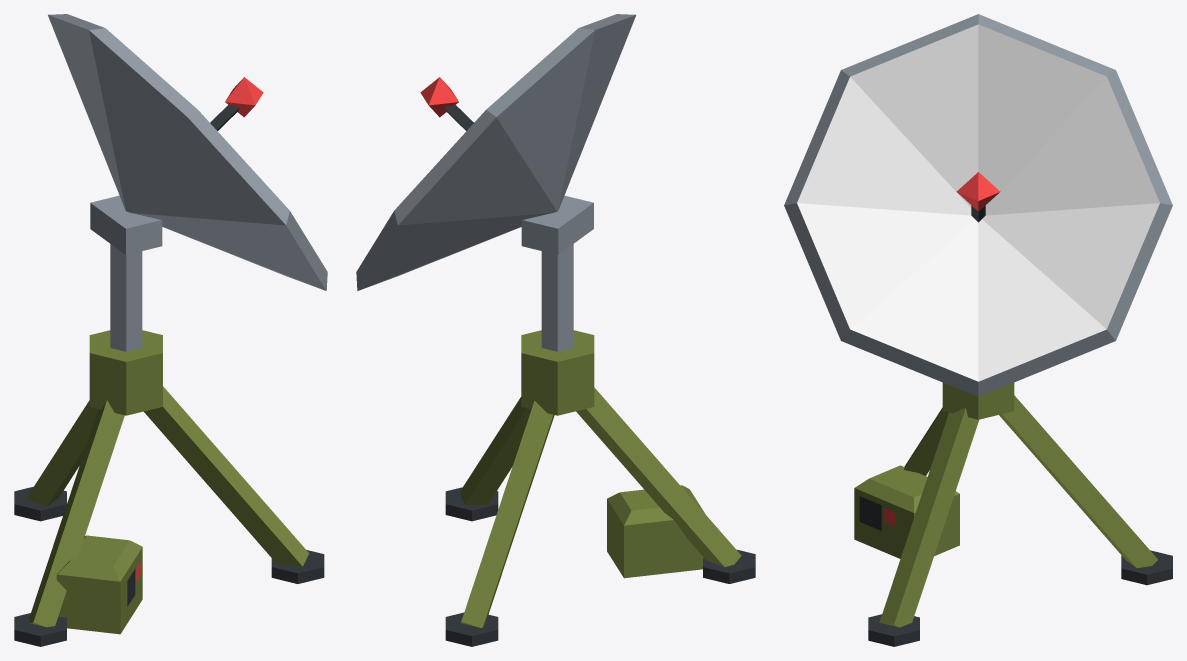
The model's file is radar_small.glb.
The picture shows the model from 3 angles, left to right: view 1: azimuth 30°, elevation 25°; view 2: azimuth 150°, elevation 25°; view 3: azimuth 270°, elevation 25°; orthographic projection.
Parts seen in each view (by area): view 1: radar_small; view 2: radar_small; view 3: radar_small.
Boxes of the visible parts, x1,y1,x2,y2 form: radar_small: (14,14,327,646); radar_small: (356,14,755,646); radar_small: (784,14,1172,646).
Bounding box in the file's own units: 0.2712 × 0.45 × 0.2925.
